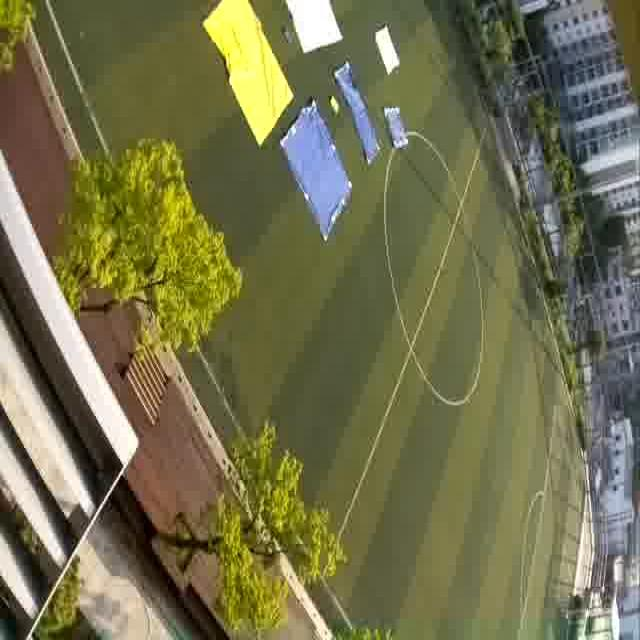danger: (284, 120, 349, 229), (378, 103, 418, 154), (346, 83, 376, 144)
safety: (280, 0, 350, 56), (372, 20, 404, 79)
warning: (204, 2, 283, 132)
